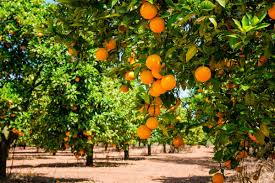orange: (137, 1, 158, 21), (149, 14, 168, 35), (133, 125, 153, 141), (145, 51, 162, 69), (150, 80, 164, 98), (139, 68, 153, 85), (163, 74, 178, 89), (144, 116, 160, 130)
